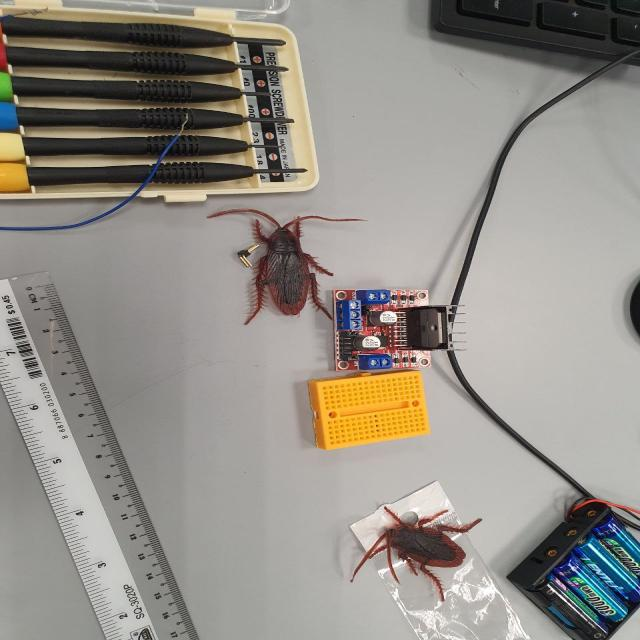Cockroach: (207, 202, 374, 330), (352, 502, 489, 610)
